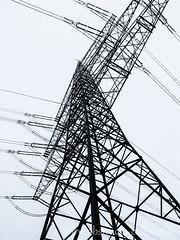power_tower: (22, 0, 180, 240)
